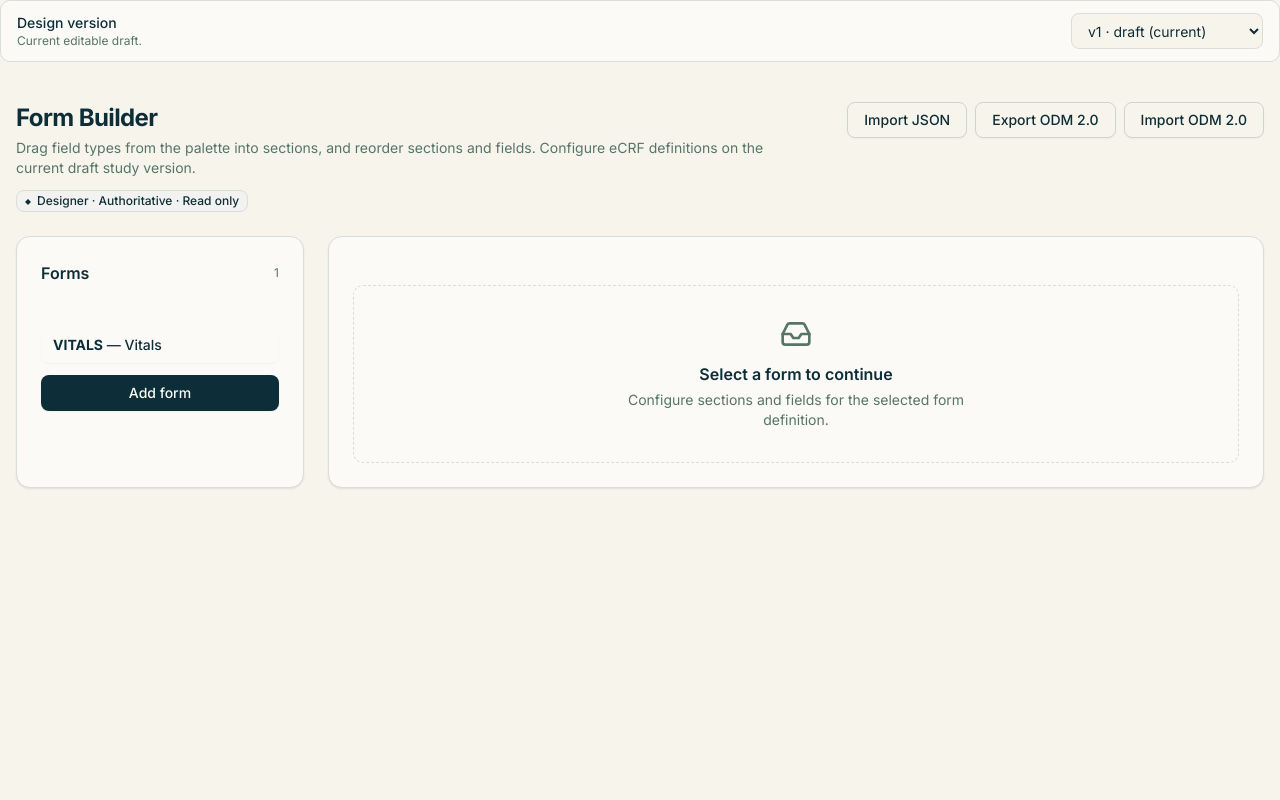
Test: FormBuilderPage (dnd) › exposes a keyboard-reachable Add field affordance per section
Click the button "VITALS — Vitals".
click(160, 345)  # box [41, 327, 279, 363]
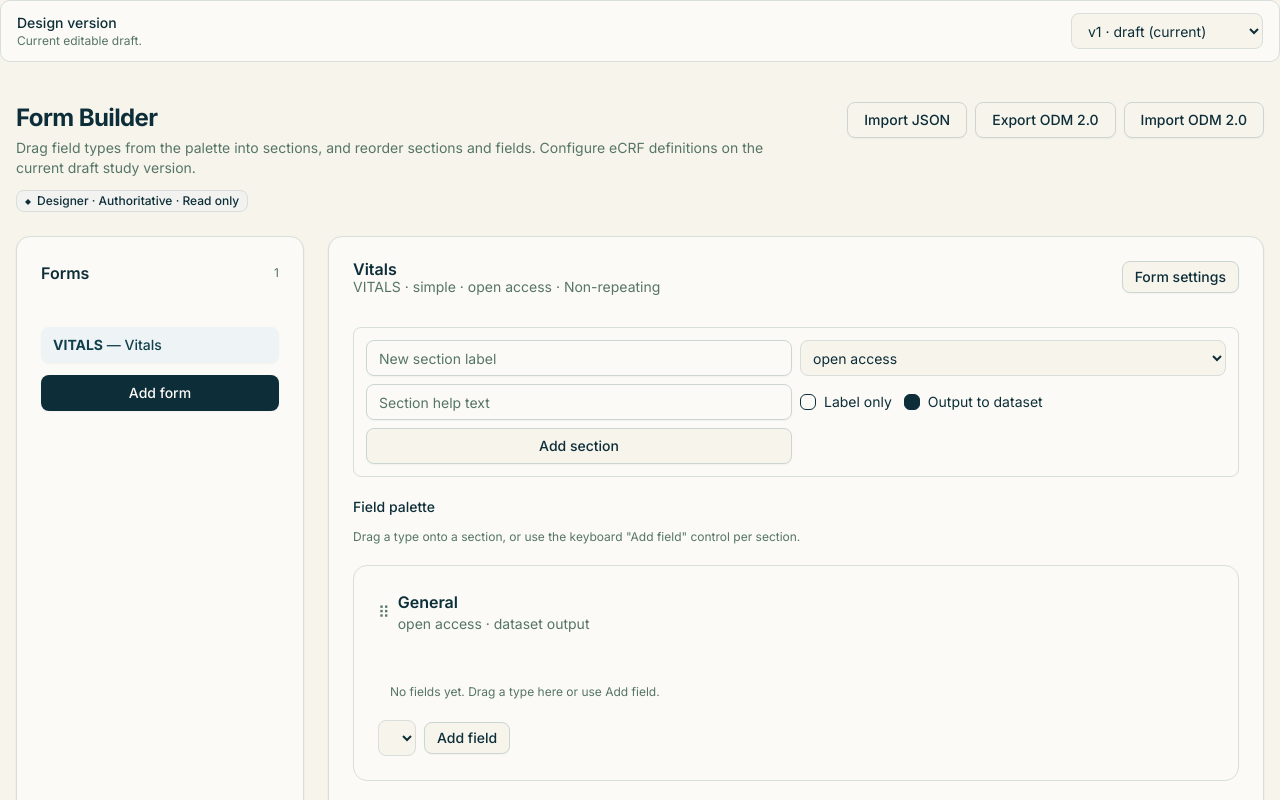
Check: the dropdown named "Add field type to General" is shown, box [378, 720, 416, 756]
